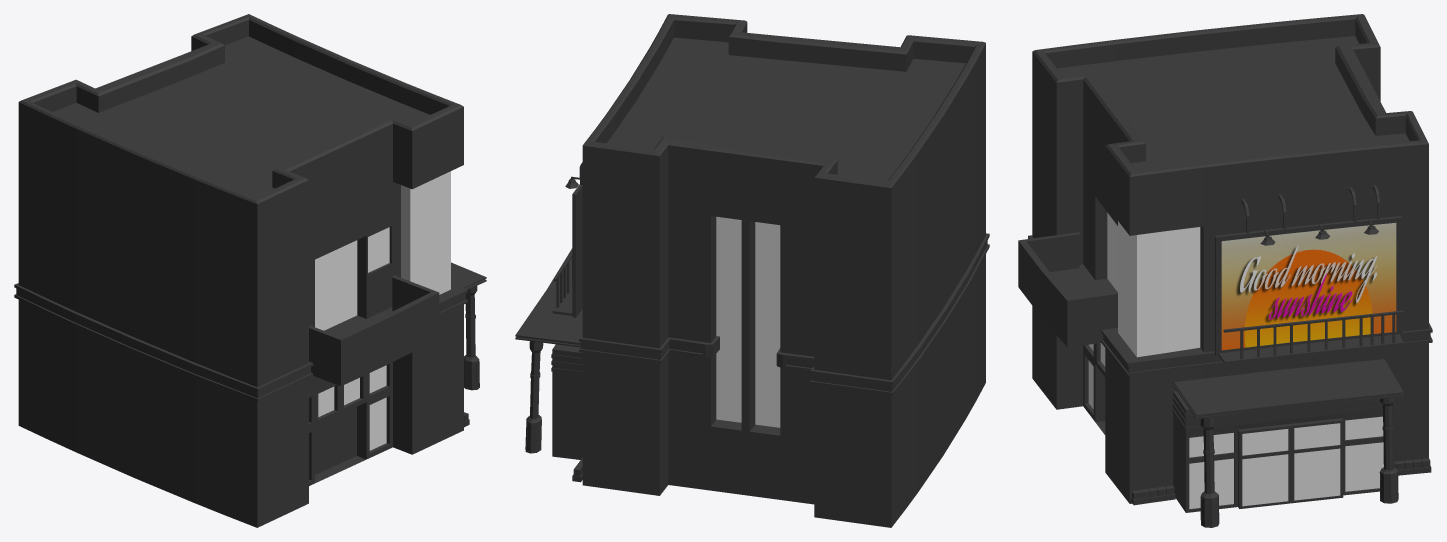
Rendered from bank.fbx.
3 views of the same model, side by side, from view 1: azimuth 30°, elevation 25°; view 2: azimuth 150°, elevation 25°; view 3: azimuth 270°, elevation 25° (orthographic). The views are drawn at different scales.
Parts seen in each view (by area): view 1: bank.001; view 2: bank.001; view 3: bank.001.
Part boxes in pixels (box(x1,y1,x2,y2)): bank.001: box(14, 14, 486, 527); bank.001: box(515, 14, 989, 527); bank.001: box(1018, 14, 1432, 527).
Bounding box in the file's own units: 464 × 373 × 425.
